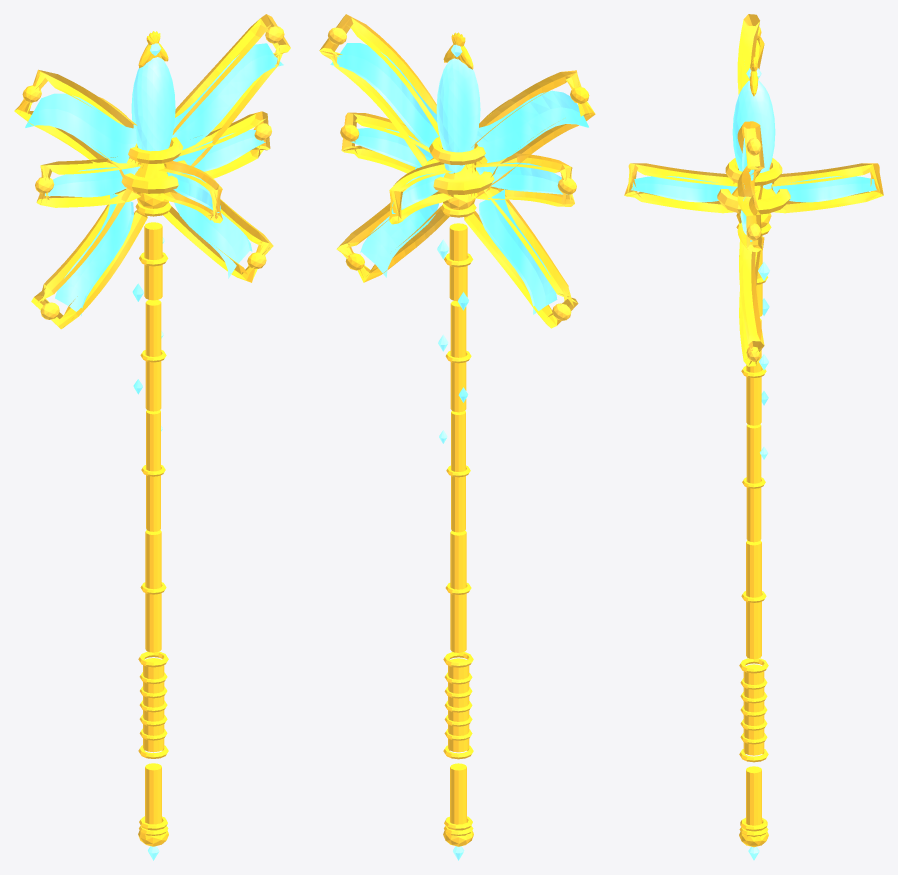
Rendered from azure_staff.glb.
3 renders of one model, left to right at view 1: azimuth 30°, elevation 25°; view 2: azimuth 150°, elevation 25°; view 3: azimuth 270°, elevation 25°, orthographic. The views are drawn at different scales.
Parts seen in each view (by area): view 1: metal, glow; view 2: metal, glow; view 3: metal, glow.
Boxes of the visible parts, left/top/right/bottom form: metal: left=14, top=14, right=290, bottom=846; glow: left=25, top=43, right=283, bottom=860; metal: left=319, top=14, right=595, bottom=846; glow: left=330, top=43, right=588, bottom=860; metal: left=624, top=14, right=883, bottom=847; glow: left=631, top=68, right=876, bottom=860.
Bounding box in the file's own units: 0.4854 × 1.41 × 0.4135.
2 materials, 2 textured.
